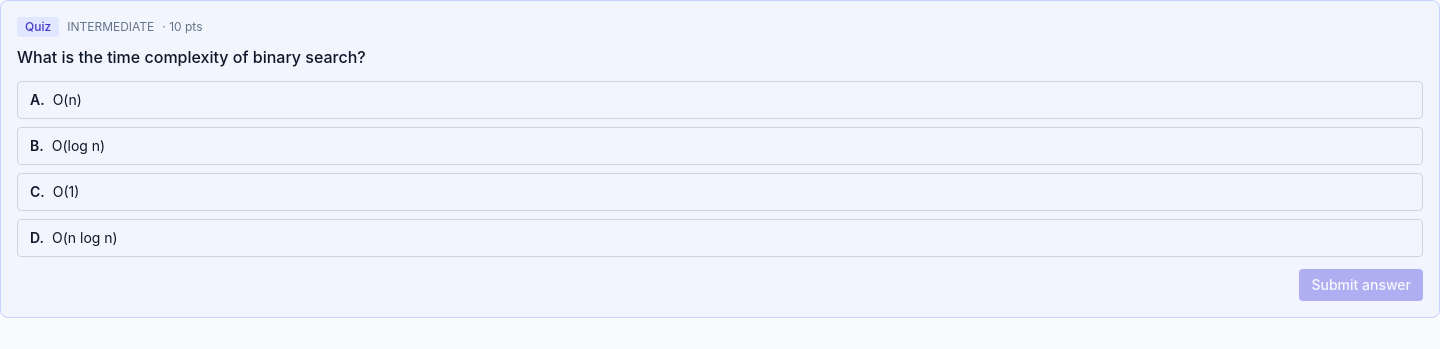
Test: submitting an answer › hides the submit button once answered
Click the button "B.O(log n)".
click(78, 146)  # box [17,127,1423,165]
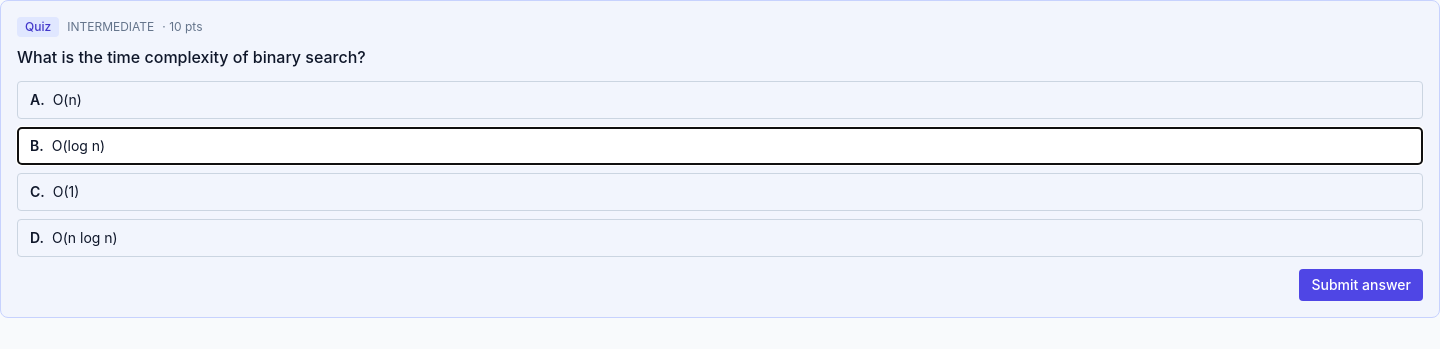
Click the button "Submit answer".
click(1361, 285)  # box [1300,269,1423,301]
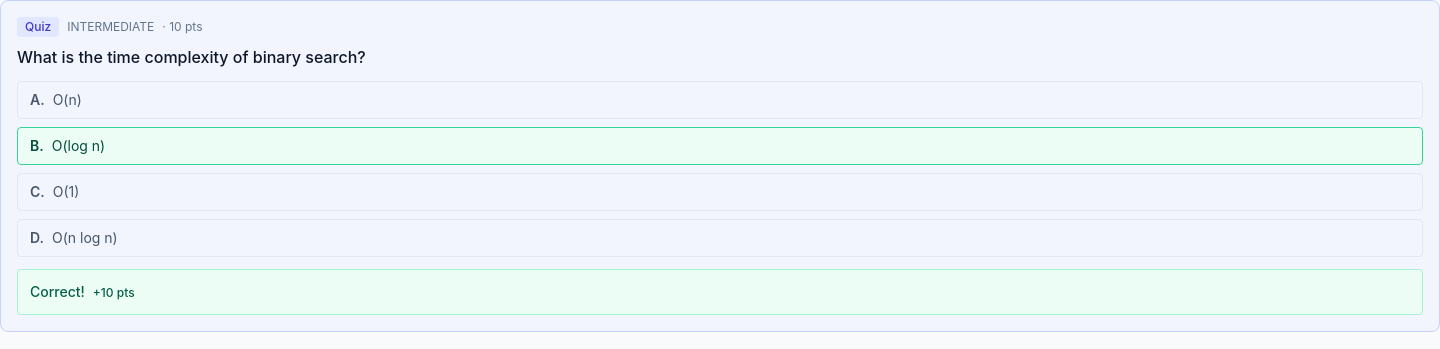
Expected: the button "Submit answer" is gone
